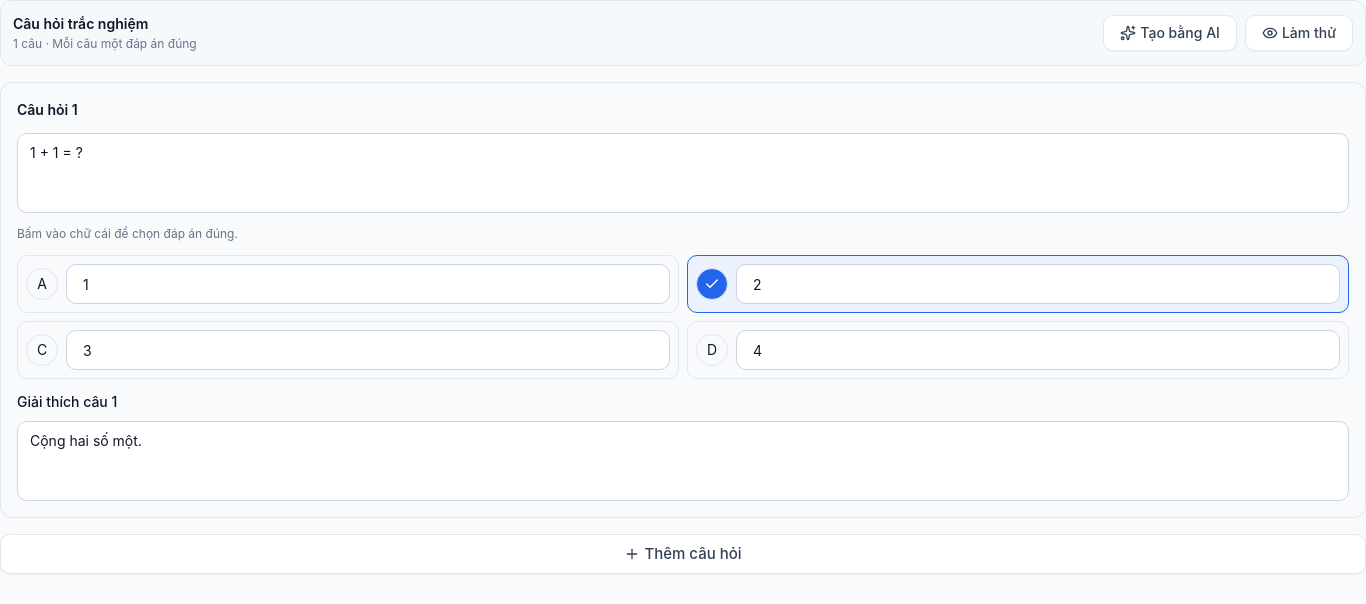
Lesson quiz builder › double click creates one generation, preserves draft, and applying is explicit
Click the button "Tạo bằng AI".
click(1170, 33)  # box [1103,15,1237,51]
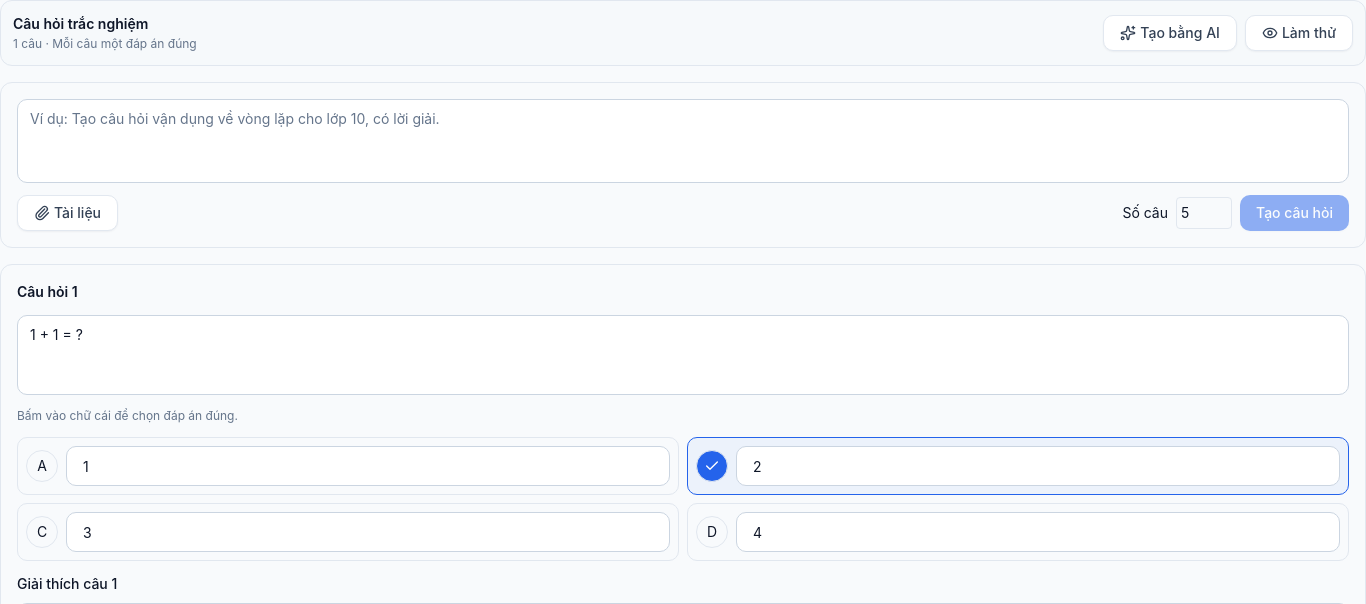
Replace the text in the text box named "Yêu cầu tạo trắc nghiệm" with "Tạo câu hỏi mới" at (683, 141), box [17,99,1349,183]
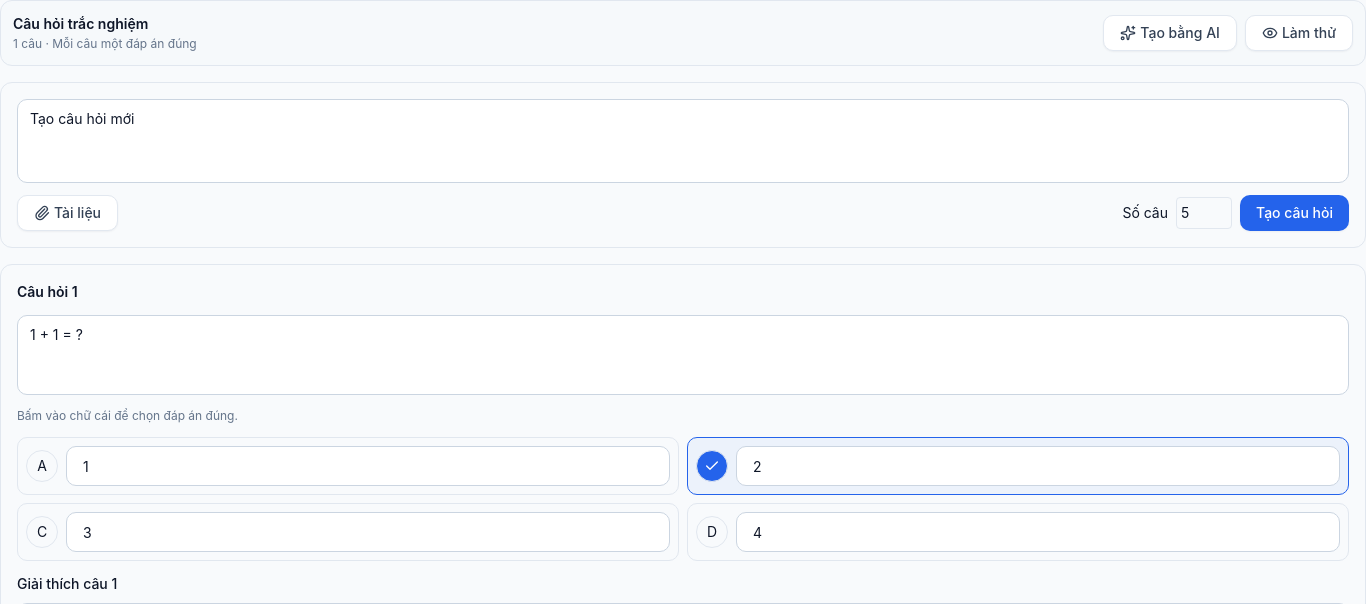
Click the button "Tạo câu hỏi".
click(1294, 213)  # box [1240,195,1349,231]
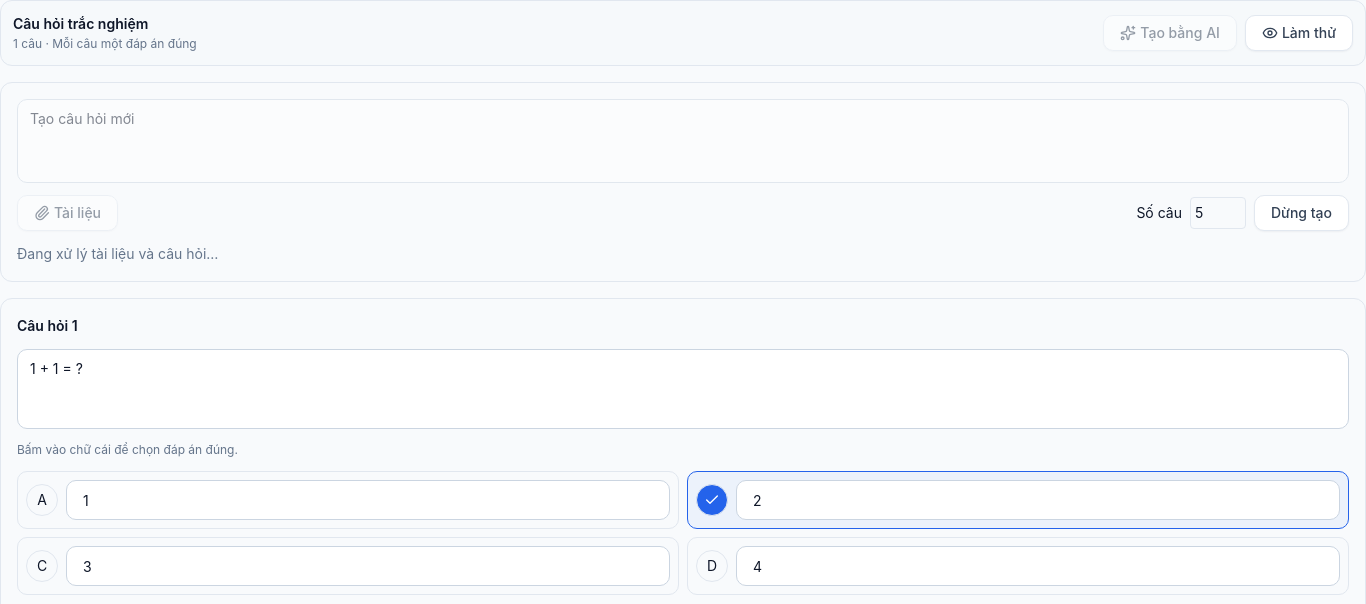
Click the button "Dừng tạo".
click(1302, 213)  # box [1254,195,1349,231]
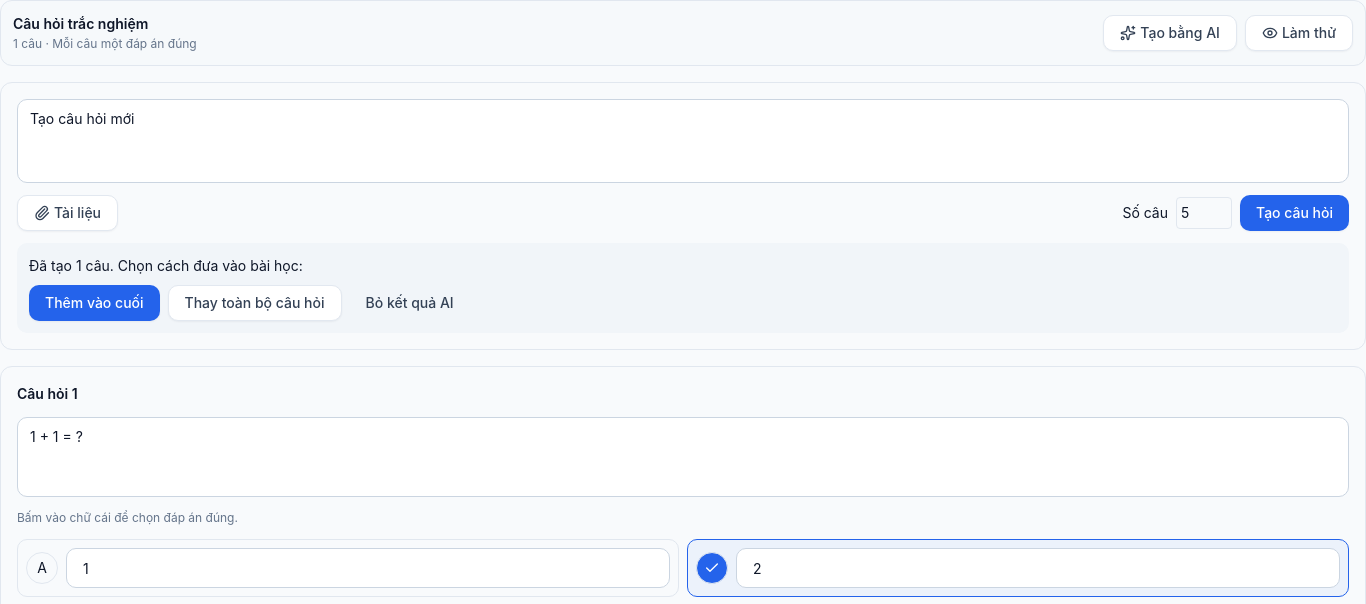
Expected: the text box named "Nội dung câu hỏi 1" holds "1 + 1 = ?", [17,417,1349,497]
Click the button "Thay toàn bộ câu hỏi".
click(254, 303)  # box [168,285,342,321]
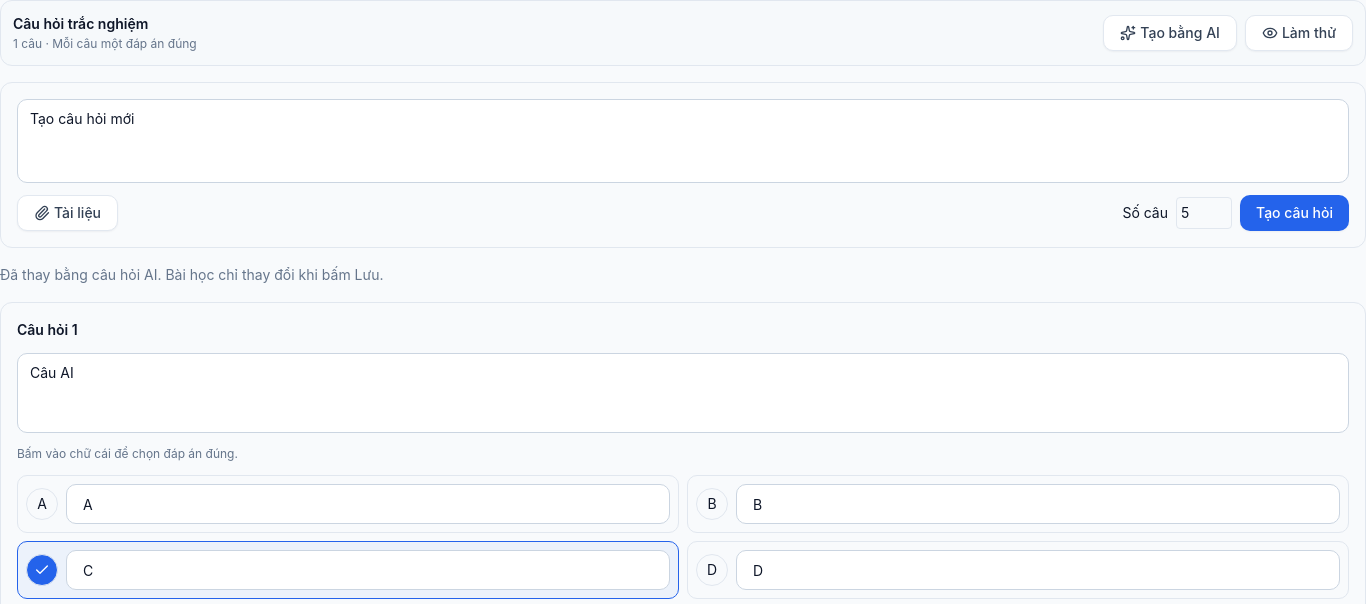
Expected: the text box named "Nội dung câu hỏi 1" holds "Câu AI", [17,353,1349,433]
